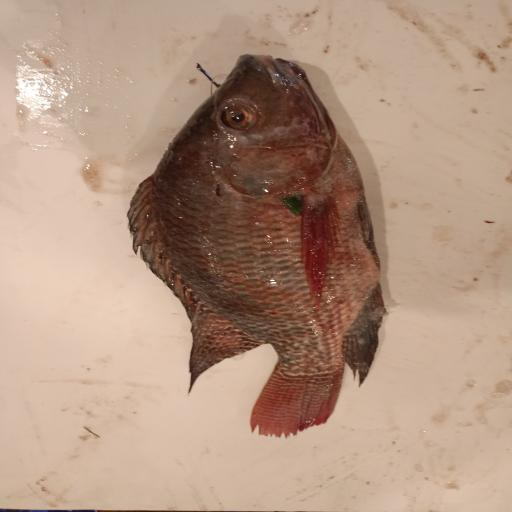Tilapia: (126, 54, 386, 438)
